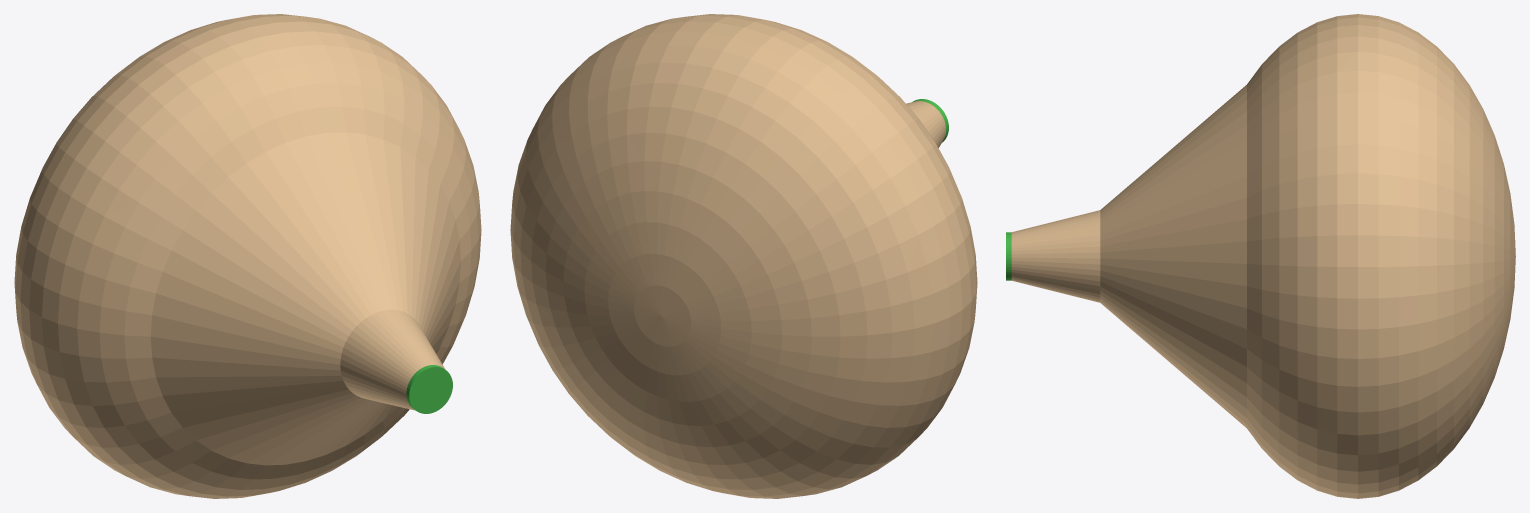
Rendered from tinker.obj.
3 renders of one model, left to right at view 1: azimuth 30°, elevation 25°; view 2: azimuth 150°, elevation 25°; view 3: azimuth 270°, elevation 25°, orthographic. The views are drawn at different scales.
Parts seen in each view (by area): view 1: obj_0, obj_2, obj_1; view 2: obj_0, obj_2; view 3: obj_0, obj_2.
Boxes of the visible parts, bbox=[...] form: obj_0: bbox=[14, 14, 481, 498]; obj_2: bbox=[150, 132, 460, 465]; obj_1: bbox=[406, 365, 452, 413]; obj_0: bbox=[510, 14, 977, 498]; obj_2: bbox=[906, 101, 945, 147]; obj_0: bbox=[1247, 14, 1515, 498]; obj_2: bbox=[1011, 85, 1246, 427].
Bounding box in the file's own units: 16 × 16 × 16.8.
